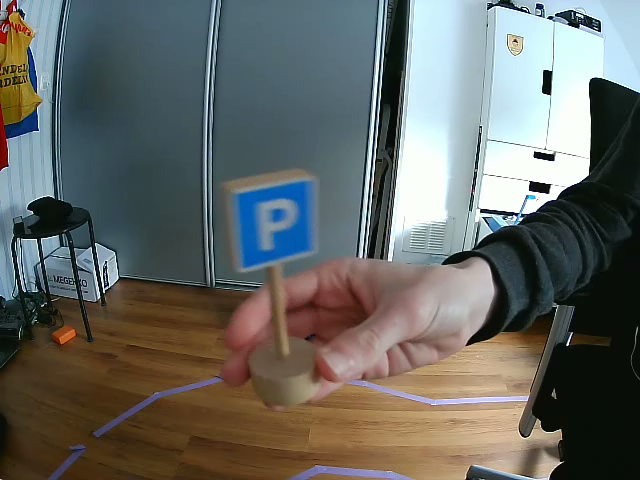parkeerbord: (230, 172, 320, 275)
